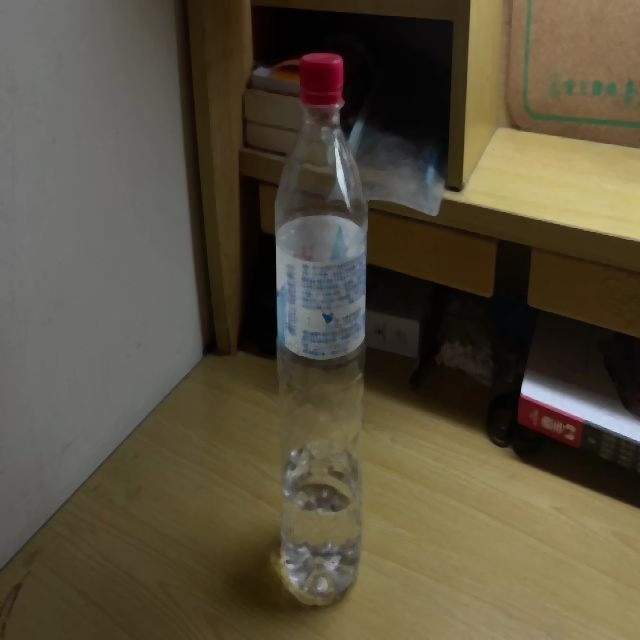Water: (274, 52, 366, 606)
